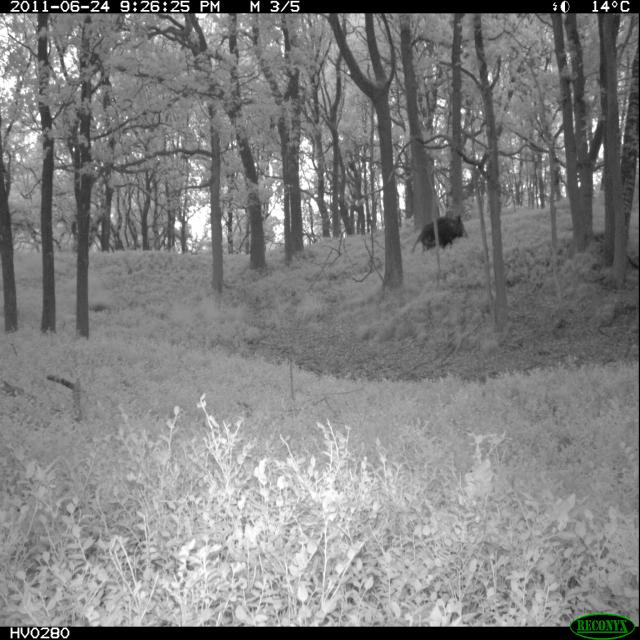boar: (389, 175, 494, 274)
